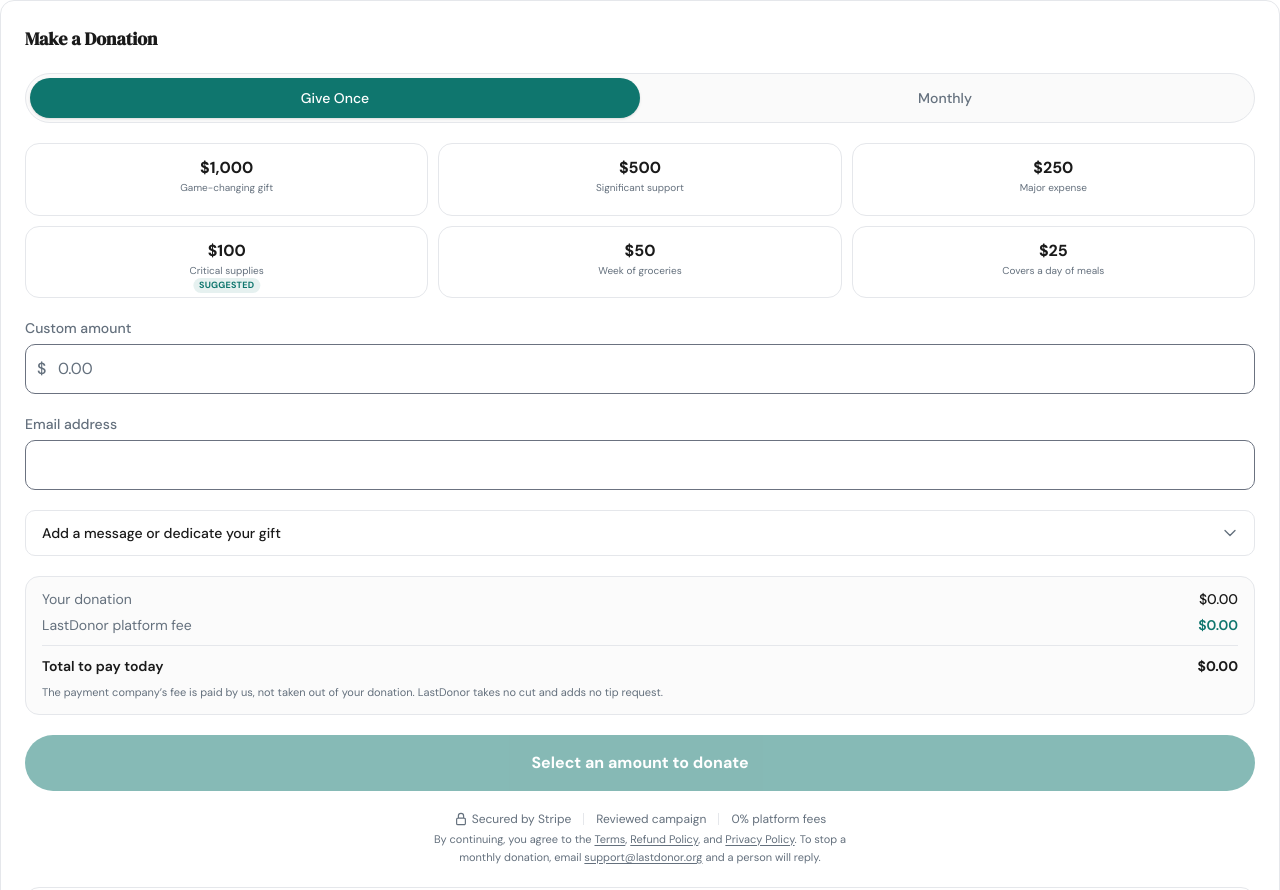
Test: DonationForm submit feedback › renders the API error message on the page, not only in a toast
Click the radio button labelled "$25 Covers a day of meals" at (1053, 262), box left=852, top=226, right=1255, bottom=298
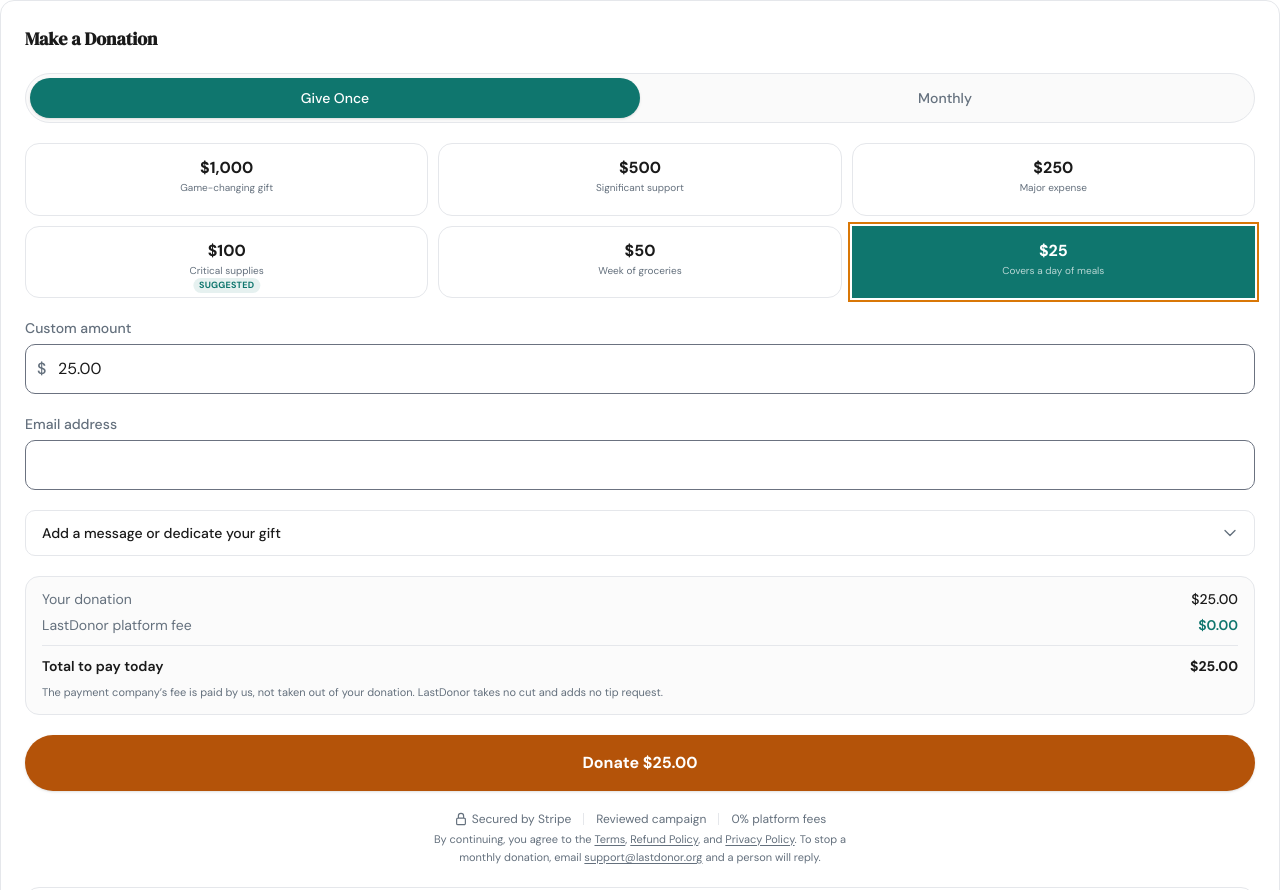
Type "donor@example.com" into the field labelled "Email address" at (640, 465), box left=25, top=440, right=1255, bottom=490
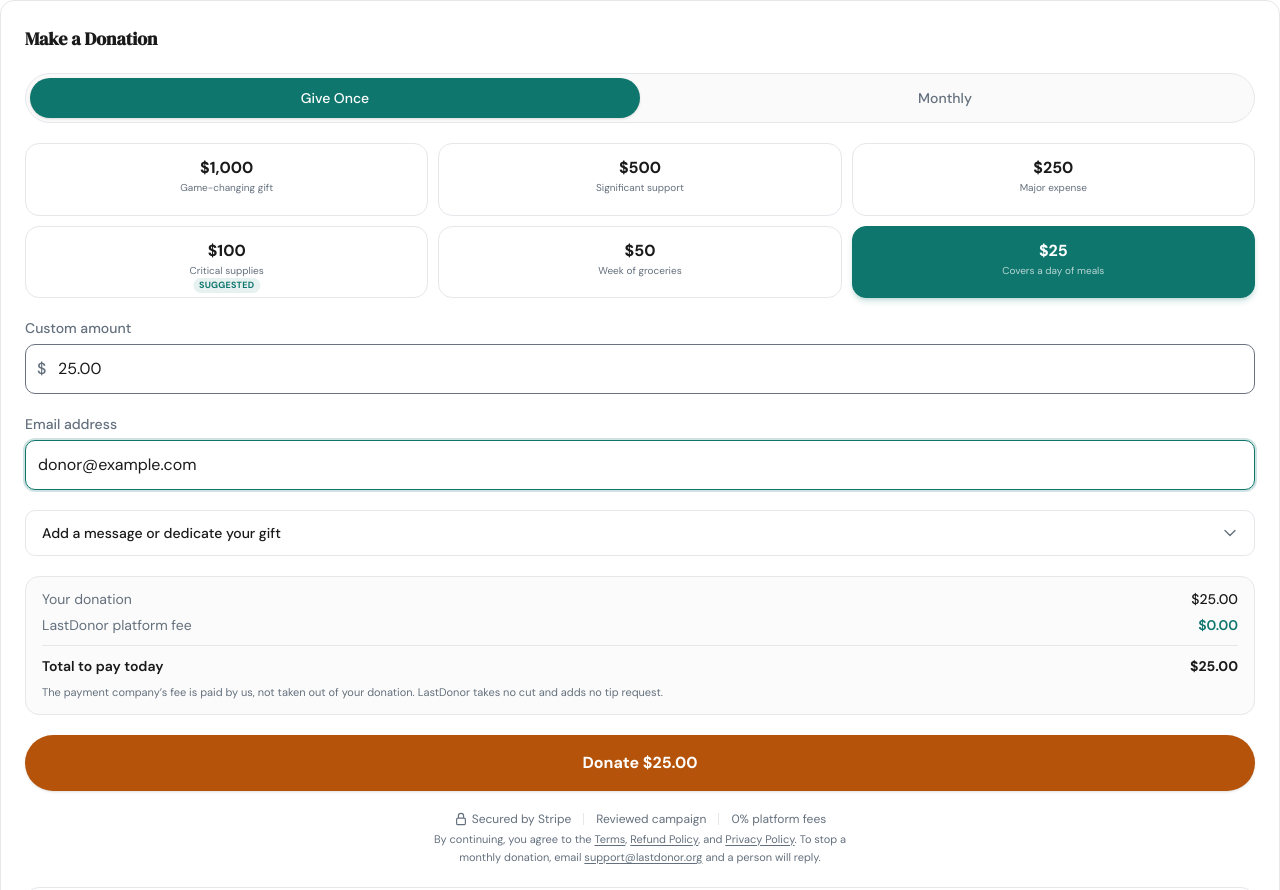
Click the button "Donate $25.00" at (640, 763), box left=25, top=735, right=1255, bottom=791
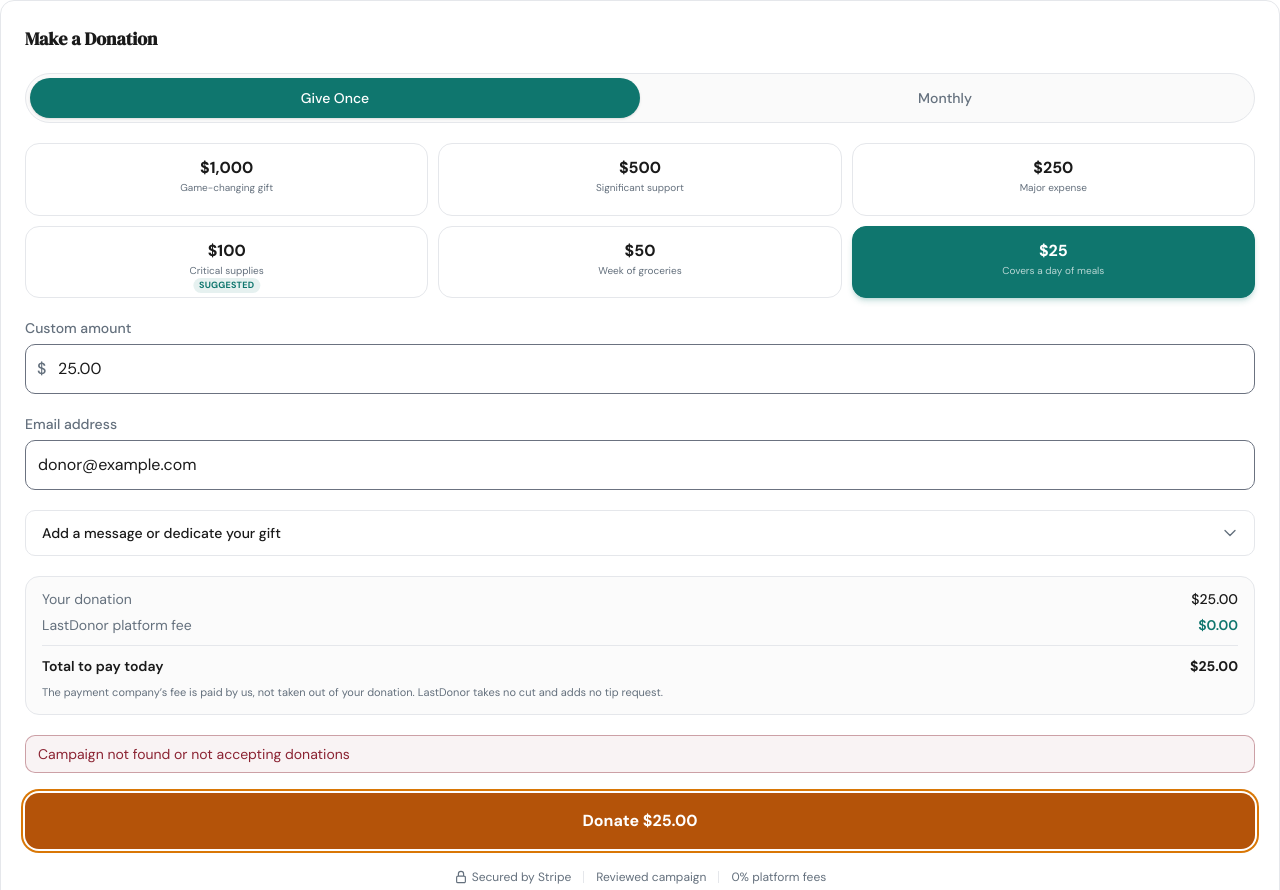
expect the message reads "Campaign not found or not accepting donations": met, box left=38, top=745, right=350, bottom=763
